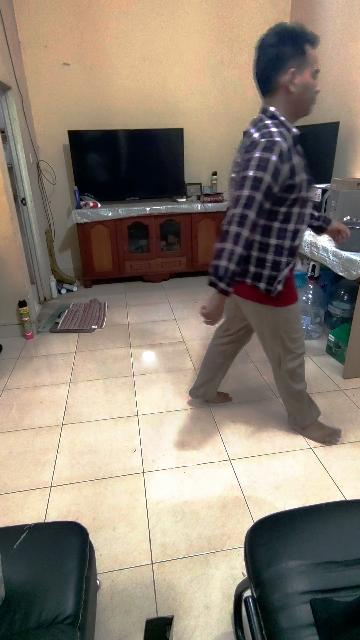berjalan: (189, 21, 343, 453)
